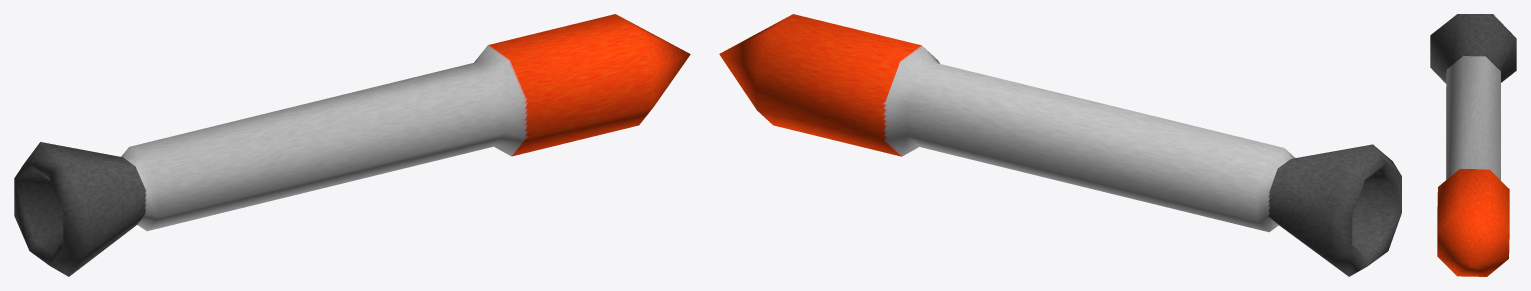
File: rocket.obj
The picture shows the model from 3 angles, left to right: view 1: azimuth 30°, elevation 25°; view 2: azimuth 150°, elevation 25°; view 3: azimuth 270°, elevation 25°; orthographic projection. The views are drawn at different scales.
Bounding box in the file's own units: 3.45 × 0.5768 × 0.5768.
Materials: 3 (3 with a texture image).
